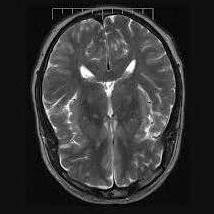Normal_Brain: (1, 1, 214, 214)
